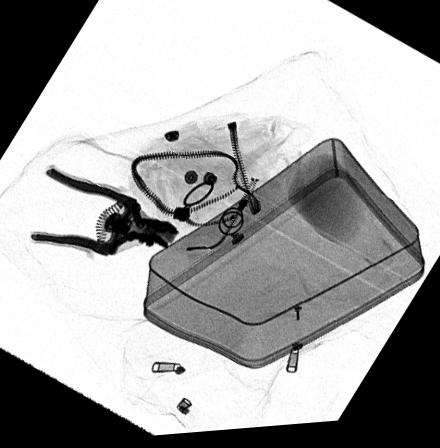Pliers: (26, 164, 178, 260)
